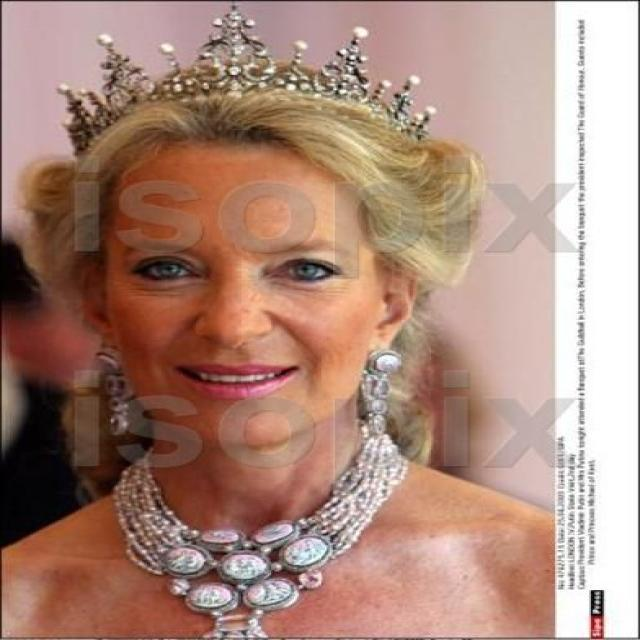Earring: (72, 347, 158, 459), (344, 329, 416, 439)
